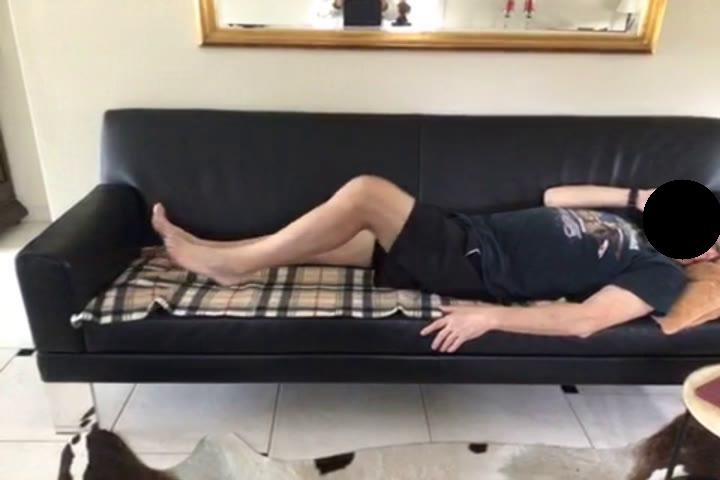lower_body: (151, 174, 498, 305)
